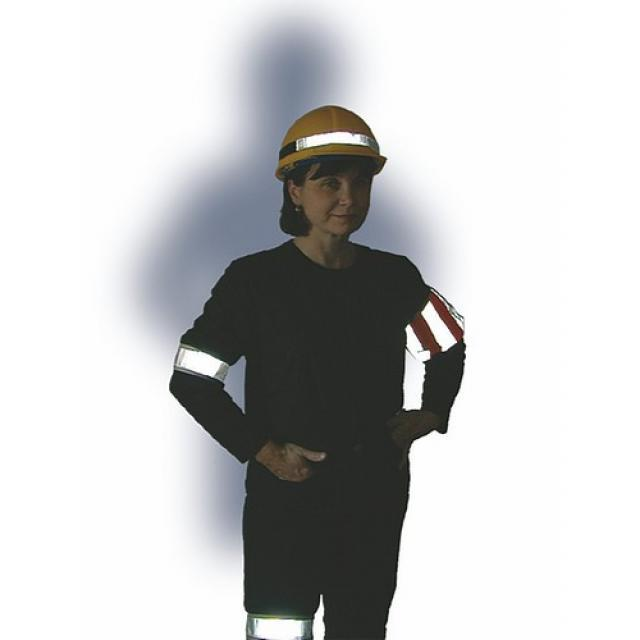safetyhelmet: (269, 105, 387, 228)
